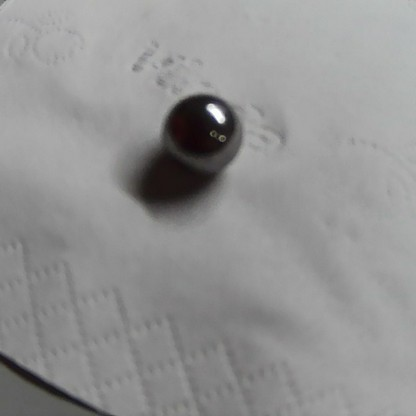ironball: (146, 77, 249, 171)
